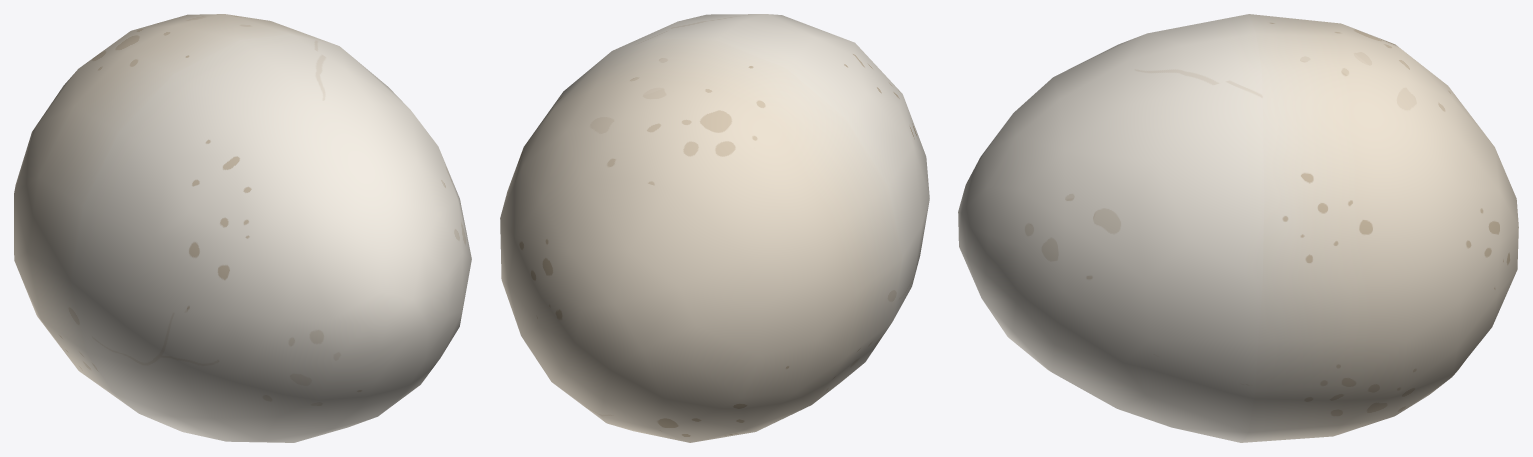
The model's file is Adelie_Egg.fbx.
3 views of the same model, side by side, from view 1: azimuth 30°, elevation 25°; view 2: azimuth 150°, elevation 25°; view 3: azimuth 270°, elevation 25° (orthographic). The views are drawn at different scales.
Parts seen in each view (by area): view 1: EggWhole_model; view 2: EggWhole_model; view 3: EggWhole_model.
Boxes of the visible parts, x1=… form: EggWhole_model: x1=14, y1=14, x2=471, y2=442; EggWhole_model: x1=500, y1=14, x2=929, y2=442; EggWhole_model: x1=958, y1=14, x2=1518, y2=442.
Bounding box in the file's own units: 0.1186 × 0.1194 × 0.156.
